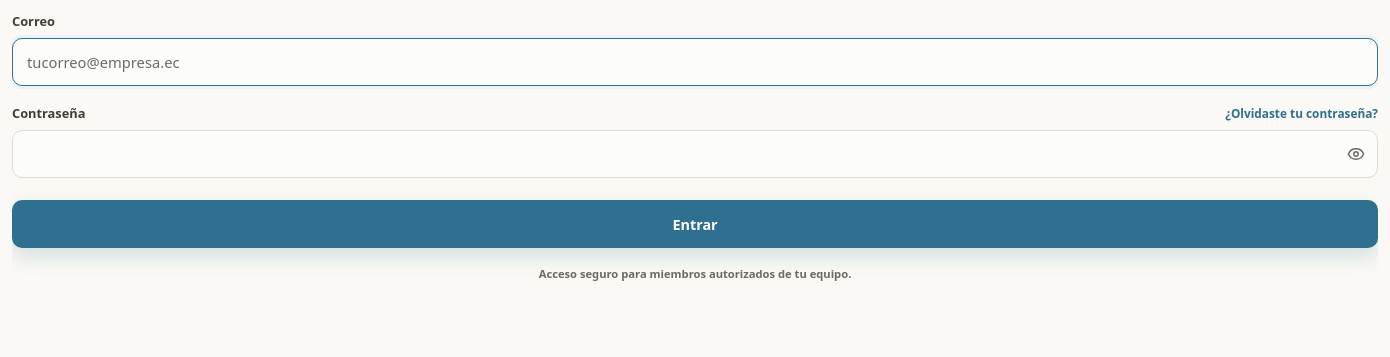
Test: muestra el motivo del servidor en una alerta
Step 1. Click the button "Entrar" → {"x": 695, "y": 224}, box x1=12 y1=200 x2=1378 y2=248
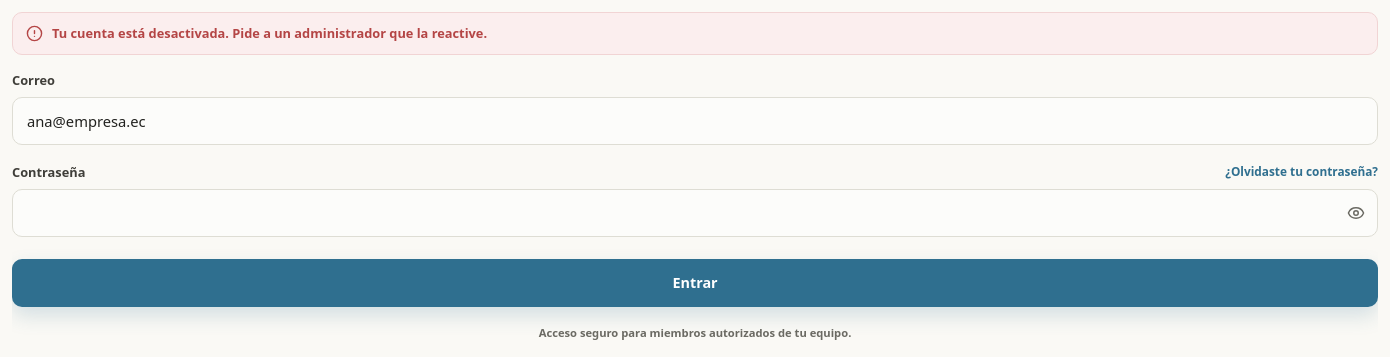
Result: the message reads "Tu cuenta está desactivada. Pide a un administrador que la reactive." at x1=52 y1=24 x2=487 y2=42
